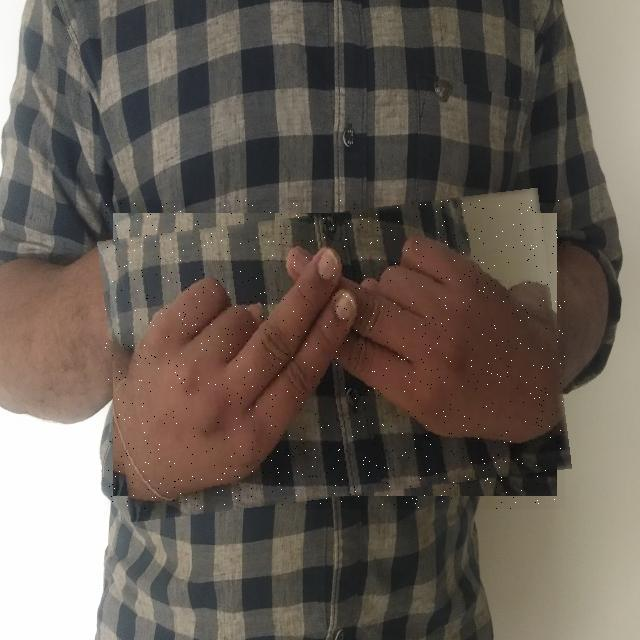F: (105, 200, 565, 509)
